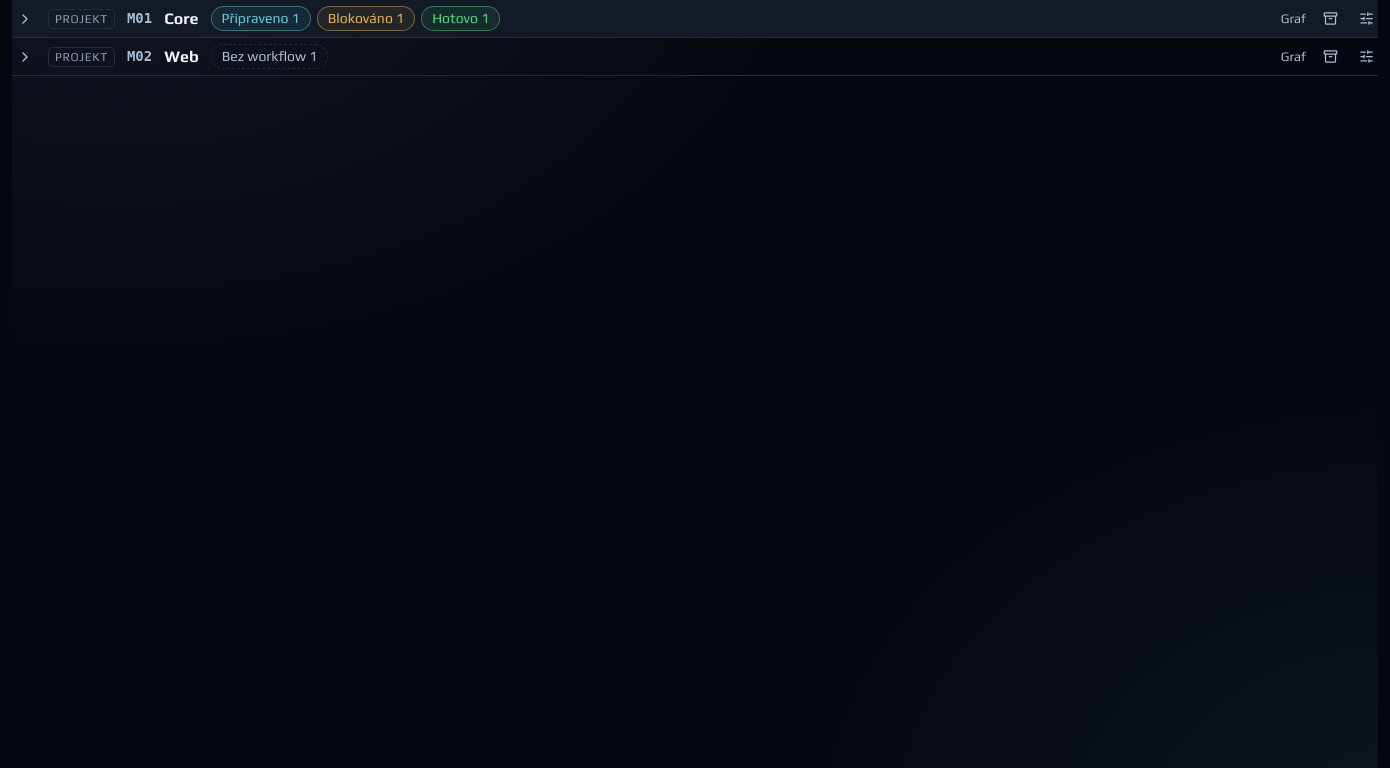
BacklogTree › names the project level in Czech and shows the title of a code in a tooltip
This screenshot has width=1390, height=768.
Expected: the text with class "level" next to "M01" reads "Projekt", [55,12,108,26]
Hover over the element showing "M01" at (140, 18), box [127,8,152,29]
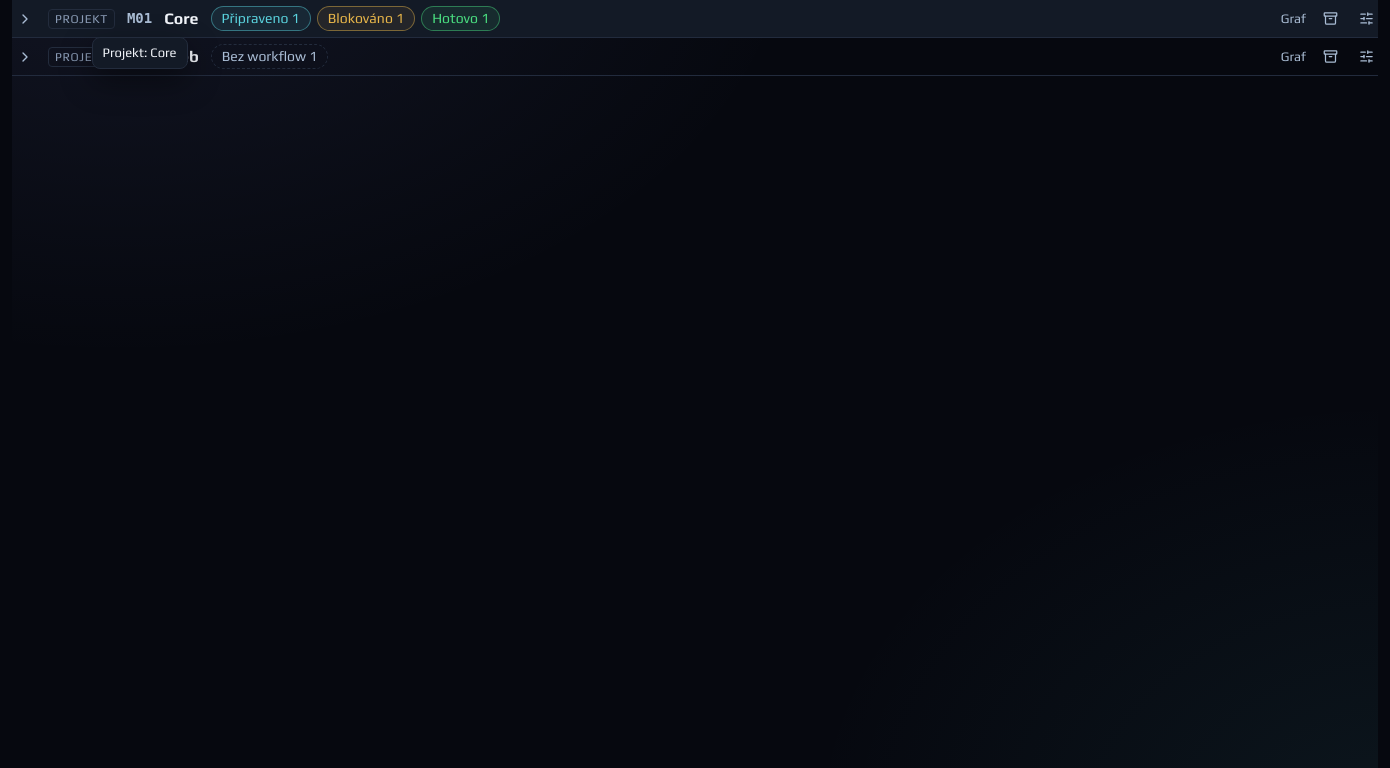
Expected: the tooltip with test id "tooltip" reads "Projekt: Core", [103,45,177,60]
